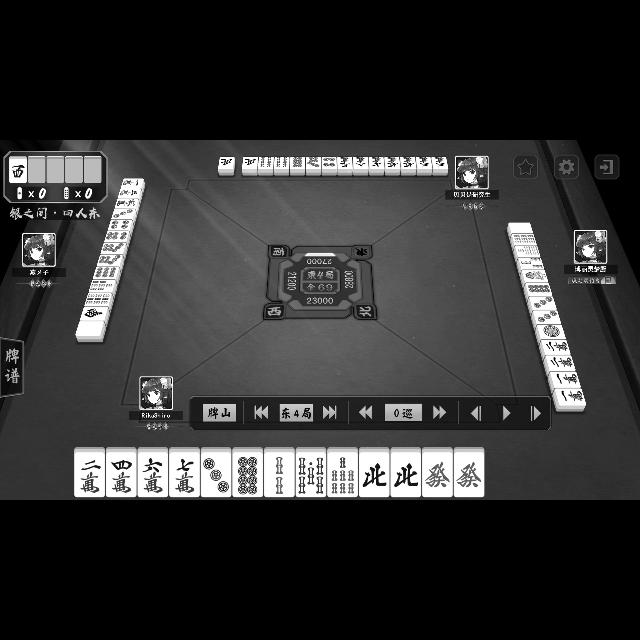1m: (552, 388, 586, 412), (548, 372, 580, 388), (121, 178, 145, 188)
1p: (534, 325, 566, 339)
1s: (520, 270, 548, 282)
2m: (75, 447, 105, 497), (542, 356, 576, 370), (539, 340, 571, 354)
2s: (264, 448, 296, 497)
3m: (416, 157, 432, 176), (432, 157, 448, 176), (118, 188, 142, 198)
3p: (200, 447, 232, 497), (531, 310, 561, 324), (527, 296, 557, 310), (111, 209, 137, 219)
3s: (516, 257, 544, 269)
4m: (106, 447, 136, 497)
4p: (322, 157, 336, 176), (108, 220, 134, 230)
4s: (274, 157, 290, 176), (258, 157, 274, 175)
5m: (384, 157, 400, 175), (400, 157, 416, 175), (114, 198, 140, 208)
5s: (296, 447, 326, 497)
6m: (138, 447, 168, 497)
6p: (105, 232, 131, 242)
7m: (168, 447, 200, 497), (370, 157, 384, 176)
7p: (100, 242, 128, 254), (98, 254, 124, 266), (306, 157, 320, 176)
7s: (328, 447, 358, 497), (89, 280, 117, 292), (512, 246, 540, 256)
8m: (354, 157, 368, 176)
8p: (232, 447, 264, 497), (524, 284, 552, 296), (290, 157, 306, 175)
9m: (338, 157, 352, 175)
9p: (93, 267, 121, 279)
9s: (85, 294, 114, 306), (509, 233, 536, 244)
haku: (76, 321, 106, 341), (507, 222, 533, 234)
hatsu: (422, 447, 452, 498), (454, 447, 484, 497)
nan: (80, 307, 110, 321)
pe: (358, 447, 389, 497), (391, 447, 421, 498), (219, 157, 235, 175), (242, 157, 258, 175)
sha: (10, 157, 26, 183)
